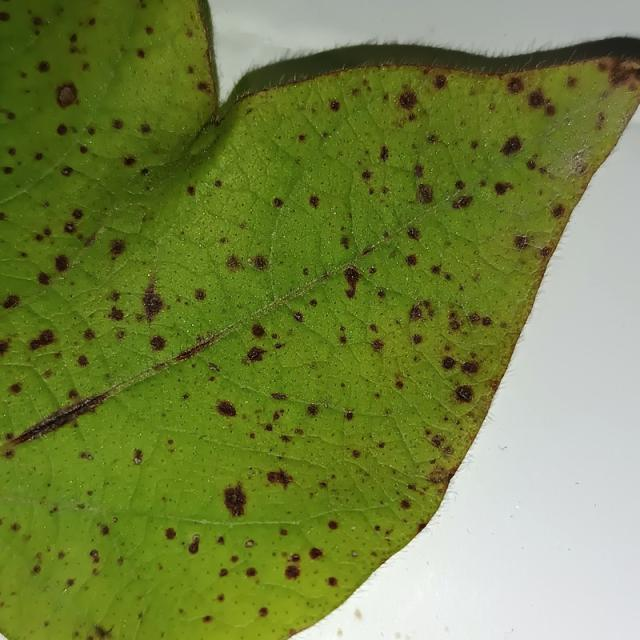Bacterial_Blight: (6, 382, 127, 451), (206, 394, 245, 424), (606, 59, 638, 88), (222, 483, 249, 517), (141, 290, 165, 321), (28, 328, 57, 351), (304, 187, 329, 211), (265, 468, 293, 489), (499, 135, 523, 157), (57, 85, 78, 108), (567, 153, 588, 176), (427, 467, 452, 485), (397, 91, 418, 111), (244, 345, 267, 363), (416, 183, 434, 205), (527, 90, 547, 109), (108, 238, 127, 258), (506, 76, 526, 95), (148, 334, 168, 352), (53, 254, 71, 273), (455, 385, 474, 402), (453, 194, 473, 210), (94, 623, 114, 639), (225, 254, 243, 271), (460, 360, 479, 376), (493, 180, 512, 196), (2, 294, 20, 310), (252, 255, 269, 271), (108, 306, 125, 322), (344, 266, 360, 282), (432, 74, 448, 90), (188, 536, 201, 555), (250, 323, 266, 338), (284, 565, 300, 580), (441, 355, 457, 370), (513, 235, 529, 250), (594, 111, 606, 131), (550, 204, 565, 219), (409, 305, 423, 321), (379, 145, 391, 163), (406, 227, 421, 241), (37, 272, 52, 286), (308, 547, 324, 560), (338, 325, 348, 345), (371, 338, 385, 352), (306, 403, 320, 417), (8, 382, 23, 395), (132, 448, 144, 464), (431, 434, 444, 448), (468, 312, 482, 325), (82, 328, 96, 341), (76, 354, 90, 367), (37, 60, 51, 73), (405, 254, 418, 267), (56, 123, 69, 136), (194, 288, 207, 301), (565, 76, 578, 89), (123, 155, 137, 167), (78, 451, 94, 461), (411, 333, 423, 346), (63, 221, 76, 233), (329, 99, 341, 112), (165, 527, 177, 540), (545, 104, 557, 117), (71, 208, 84, 220), (539, 246, 551, 259), (60, 166, 74, 177), (89, 549, 100, 563), (196, 81, 210, 92), (270, 392, 287, 401), (340, 235, 350, 250), (292, 311, 304, 323), (525, 159, 537, 171), (112, 118, 124, 130), (272, 197, 284, 208), (361, 169, 372, 181), (99, 524, 110, 536), (140, 123, 152, 134), (481, 316, 493, 327), (454, 180, 466, 191), (399, 499, 411, 510), (208, 362, 220, 373), (245, 567, 257, 577), (328, 520, 339, 530), (136, 48, 146, 59), (186, 185, 196, 196), (327, 577, 338, 587), (344, 410, 354, 420), (395, 380, 405, 390), (258, 607, 268, 617), (11, 522, 21, 532), (65, 578, 75, 588), (79, 144, 88, 155), (2, 166, 13, 175), (140, 167, 150, 176), (34, 152, 44, 161), (57, 550, 66, 560), (297, 134, 306, 143), (214, 179, 223, 188), (377, 289, 386, 298), (264, 423, 273, 432), (219, 568, 228, 577), (145, 26, 154, 35), (216, 536, 225, 545), (290, 553, 300, 561), (202, 615, 212, 623), (192, 534, 200, 544), (279, 528, 288, 536), (245, 539, 254, 547), (217, 594, 225, 602), (167, 439, 174, 446), (351, 550, 358, 557), (112, 516, 118, 523), (247, 257, 253, 264)
Cotton: (0, 0, 639, 639)
